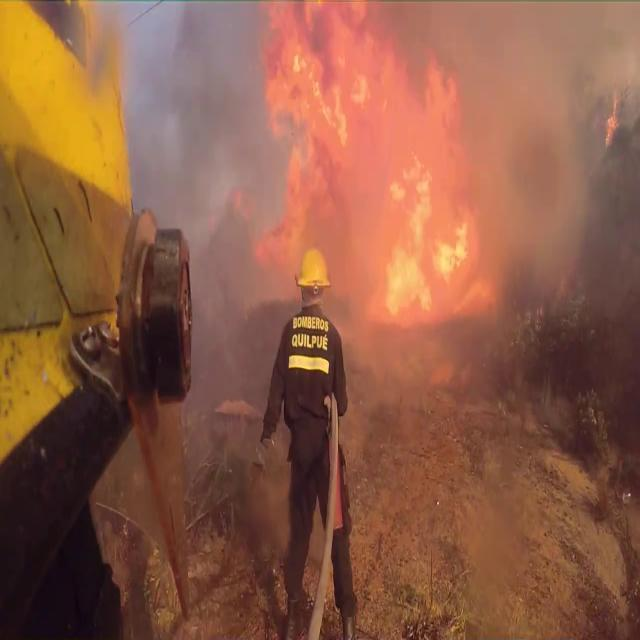Fire: (253, 2, 473, 331)
Smoke: (460, 2, 640, 346)
